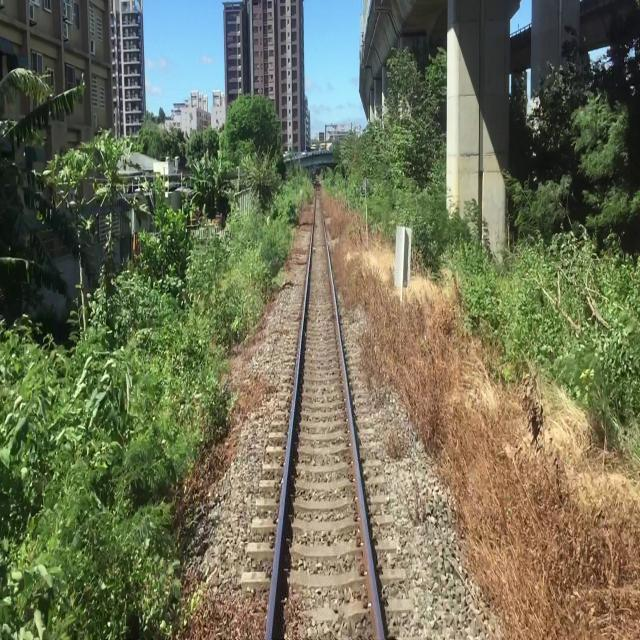rail: (233, 182, 431, 640)
